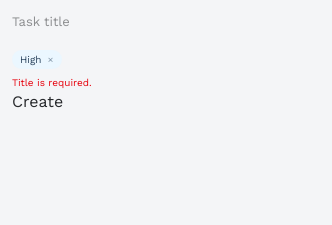
Test: TaskTitleEditor › Edit a chip by clicking it
Click the button with aria-label "Priority: High" at (31, 60), box [20,52,42,67]
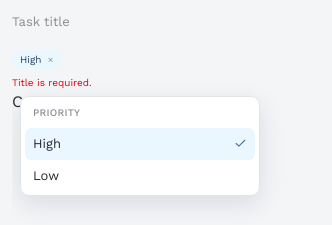
Expected: the option "High" is shown, [25,128,255,160]
